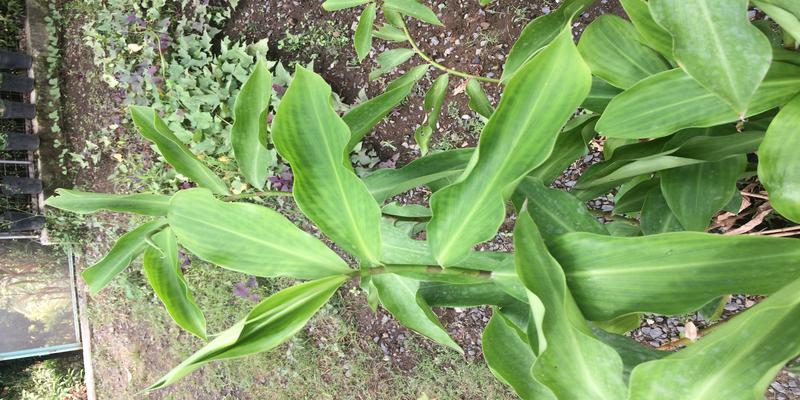Insulin: (121, 93, 791, 393)
